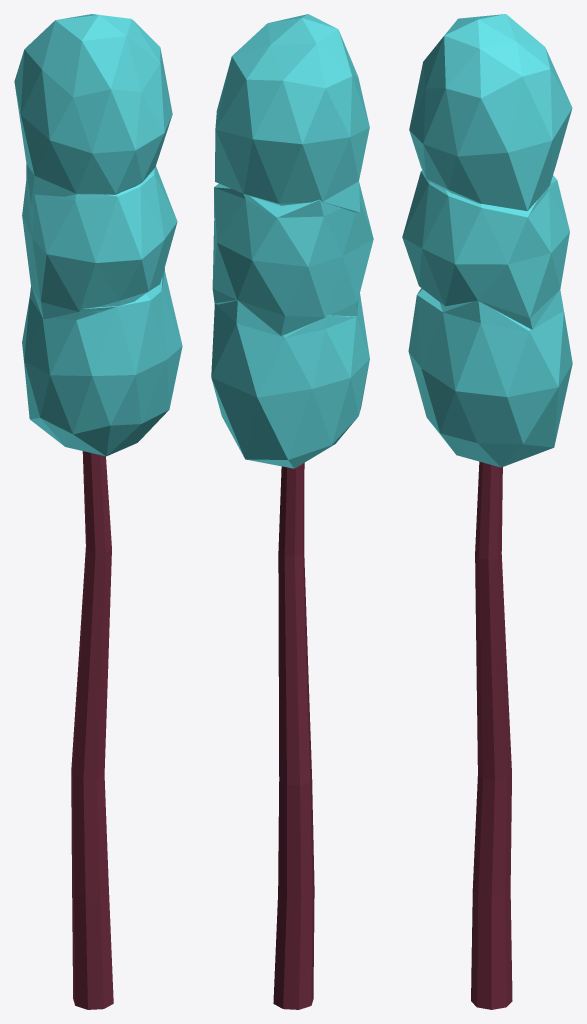
The model's file is Mo_ForestFlower02.fbx.
3 renders of one model, left to right at view 1: azimuth 30°, elevation 25°; view 2: azimuth 150°, elevation 25°; view 3: azimuth 270°, elevation 25°, orthographic.
Parts seen in each view (by area): view 1: Cylinder; view 2: Cylinder; view 3: Cylinder.
Boxes of the visible parts, left/top/right/bottom form: Cylinder: left=14, top=14, right=182, bottom=1009; Cylinder: left=211, top=14, right=373, bottom=1009; Cylinder: left=402, top=14, right=572, bottom=1009.
Size of the model in its own units: 7.32 by 50.25 by 7.92.
